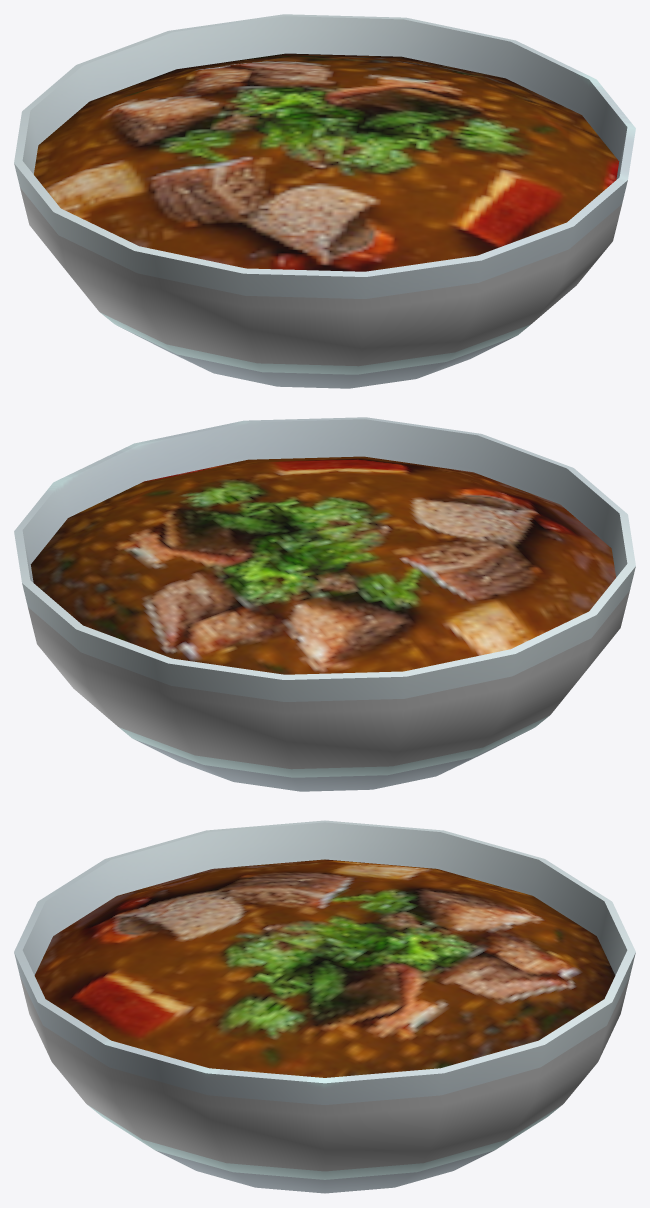
File: prop_foodmenu26.fbx
The picture shows the model from 3 angles, top to bottom: view 1: azimuth 30°, elevation 25°; view 2: azimuth 150°, elevation 25°; view 3: azimuth 270°, elevation 25°; orthographic projection.
Visible parts, largest first — view 1: prop_foodmenu26; view 2: prop_foodmenu26; view 3: prop_foodmenu26.
Part boxes in pixels (x1,y1,x2,y2): prop_foodmenu26: (14, 14, 635, 388); prop_foodmenu26: (14, 417, 635, 791); prop_foodmenu26: (14, 820, 635, 1193).
Bounding box in the file's own units: 0.2304 × 0.0807 × 0.2304.
